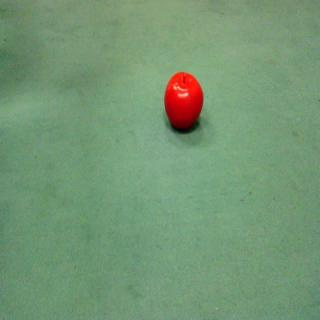apple: (152, 69, 211, 148)
